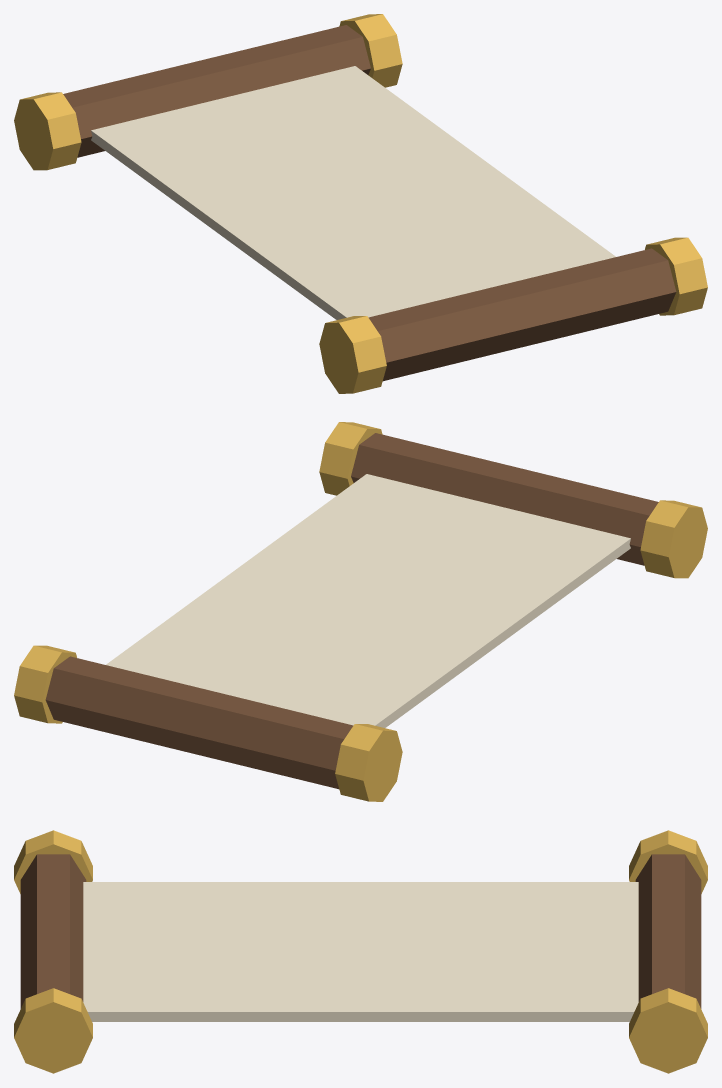
Rendered from Pergamino_Synty.fbx.
3 views of the same model, one above another, from view 1: azimuth 30°, elevation 25°; view 2: azimuth 150°, elevation 25°; view 3: azimuth 270°, elevation 25° (orthographic).
Parts seen in each view (by area): view 1: Pergamino_Skin; view 2: Pergamino_Skin; view 3: Pergamino_Skin.
Part boxes in pixels (<box>): Pergamino_Skin: <box>14,14,707,393</box>; Pergamino_Skin: <box>14,422,707,801</box>; Pergamino_Skin: <box>14,830,707,1073</box>.
Bounding box in the file's own units: 0.185 × 0.036 × 0.316.
